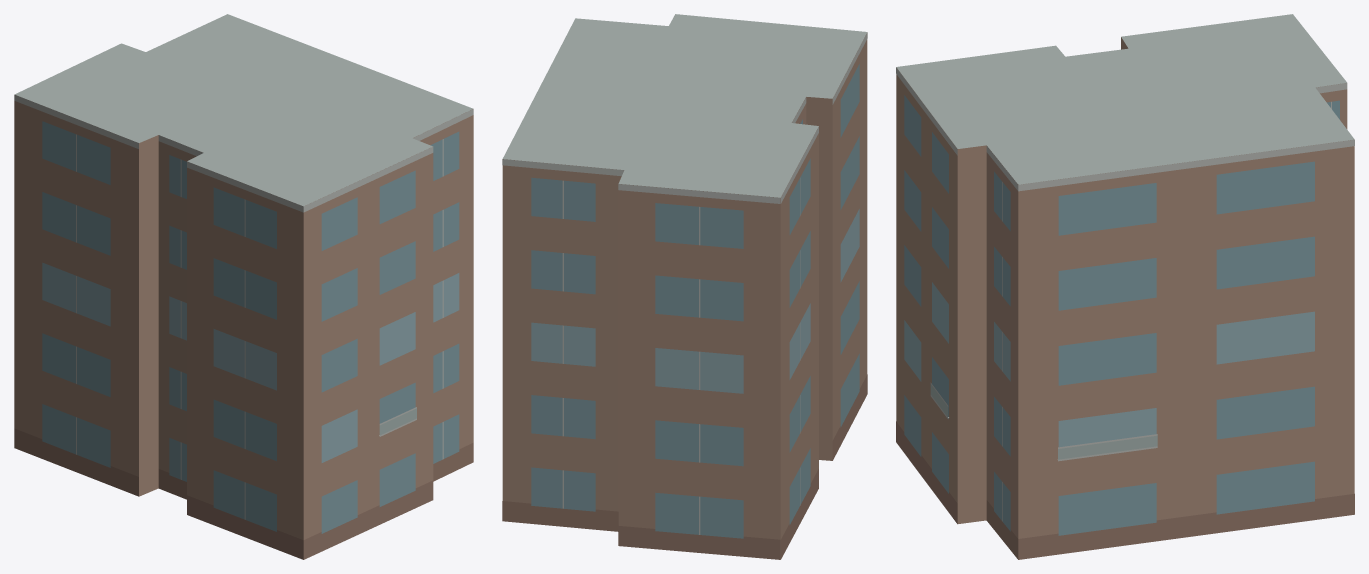
File: survey-upis-32867927.glb
3 views of the same model, side by side, from view 1: azimuth 30°, elevation 25°; view 2: azimuth 150°, elevation 25°; view 3: azimuth 270°, elevation 25° (orthographic). The views are drawn at different scales.
Parts seen in each view (by area): view 1: survey-upis-32867927.tmp; view 2: survey-upis-32867927.tmp; view 3: survey-upis-32867927.tmp.
Boxes of the visible parts, bbox=[...] form: survey-upis-32867927.tmp: bbox=[14, 14, 473, 559]; survey-upis-32867927.tmp: bbox=[502, 14, 867, 559]; survey-upis-32867927.tmp: bbox=[896, 14, 1354, 559].
Size of the model in its own units: 13.58 by 13.9 by 15.41.
